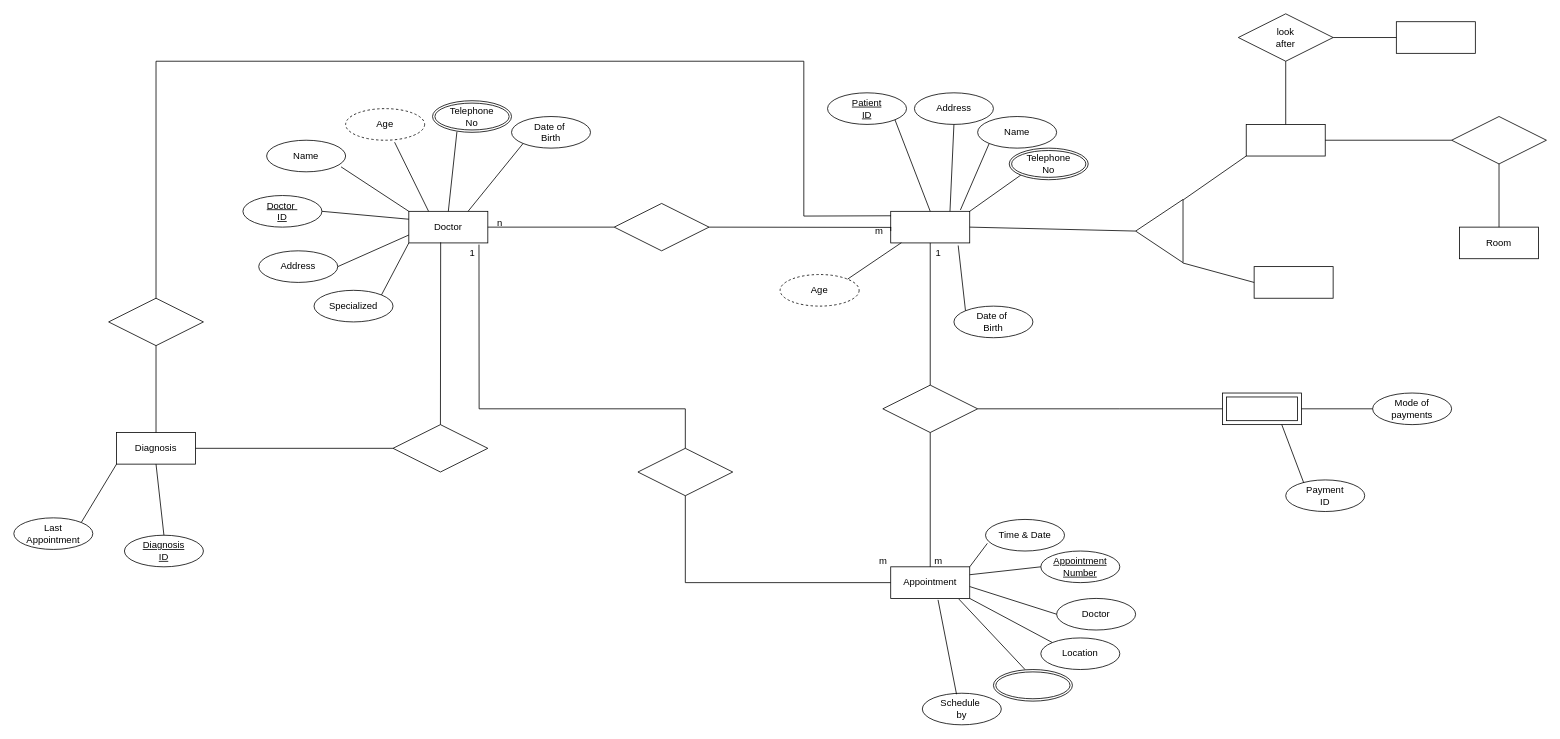
This 1560x739 diagram has some shape labels left out. The shapes that lost their labels are listed below. From the top down, each one's centre as x and y in pixels, then its label:
At pixel 1435 37: "Nurse".
At pixel 1285 140: "Addmited Patient".
At pixel 1498 140: "is assigned".
At pixel 661 227: "Treats".
At pixel 930 227: "Patient".
At pixel 1293 282: "out patient".
At pixel 155 321: "Diagnosis with".
At pixel 930 408: "Make".
At pixel 1262 408: "Payments".
At pixel 440 448: "records".
At pixel 685 472: "Heads".
At pixel 1032 685: "Contact number".
